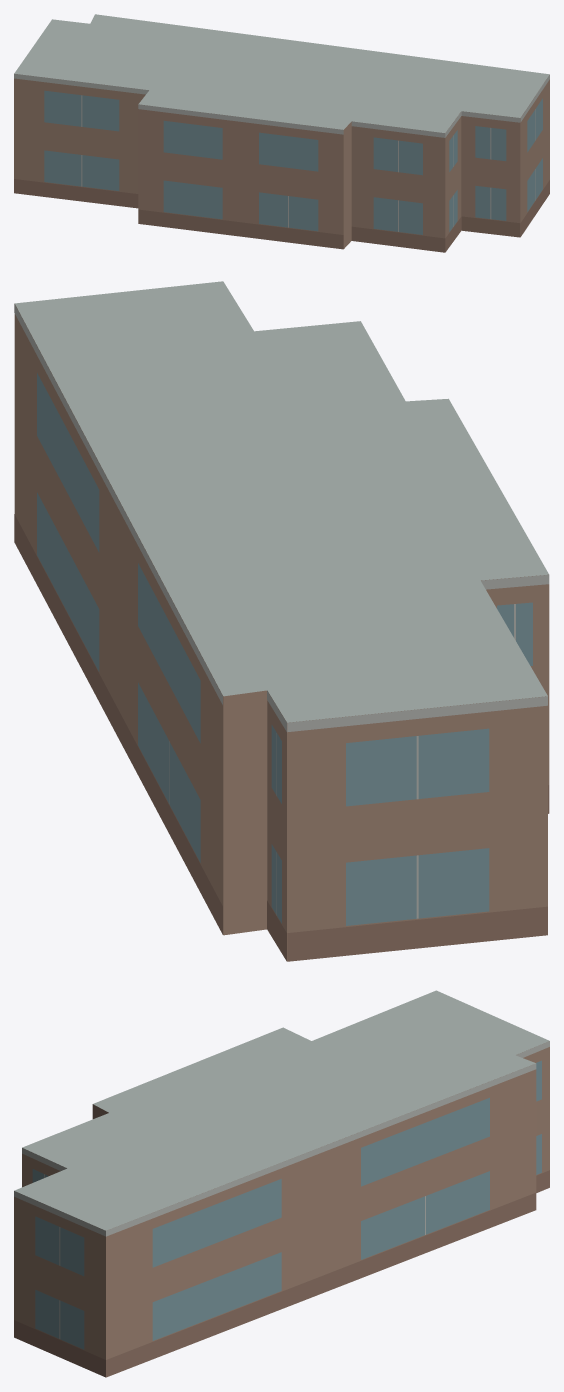
The model's file is survey-upis-32670943.glb.
3 renders of one model, top to bottom at view 1: azimuth 30°, elevation 25°; view 2: azimuth 150°, elevation 25°; view 3: azimuth 270°, elevation 25°, orthographic. The views are drawn at different scales.
Visible parts, largest first — view 1: survey-upis-32670943.tmp; view 2: survey-upis-32670943.tmp; view 3: survey-upis-32670943.tmp.
Boxes of the visible parts, x1=… form: survey-upis-32670943.tmp: x1=14, y1=14, x2=549, y2=252; survey-upis-32670943.tmp: x1=14, y1=281, x2=549, y2=961; survey-upis-32670943.tmp: x1=14, y1=990, x2=549, y2=1377.
Bounding box in the file's own units: 21.44 × 6.1 × 20.2.
